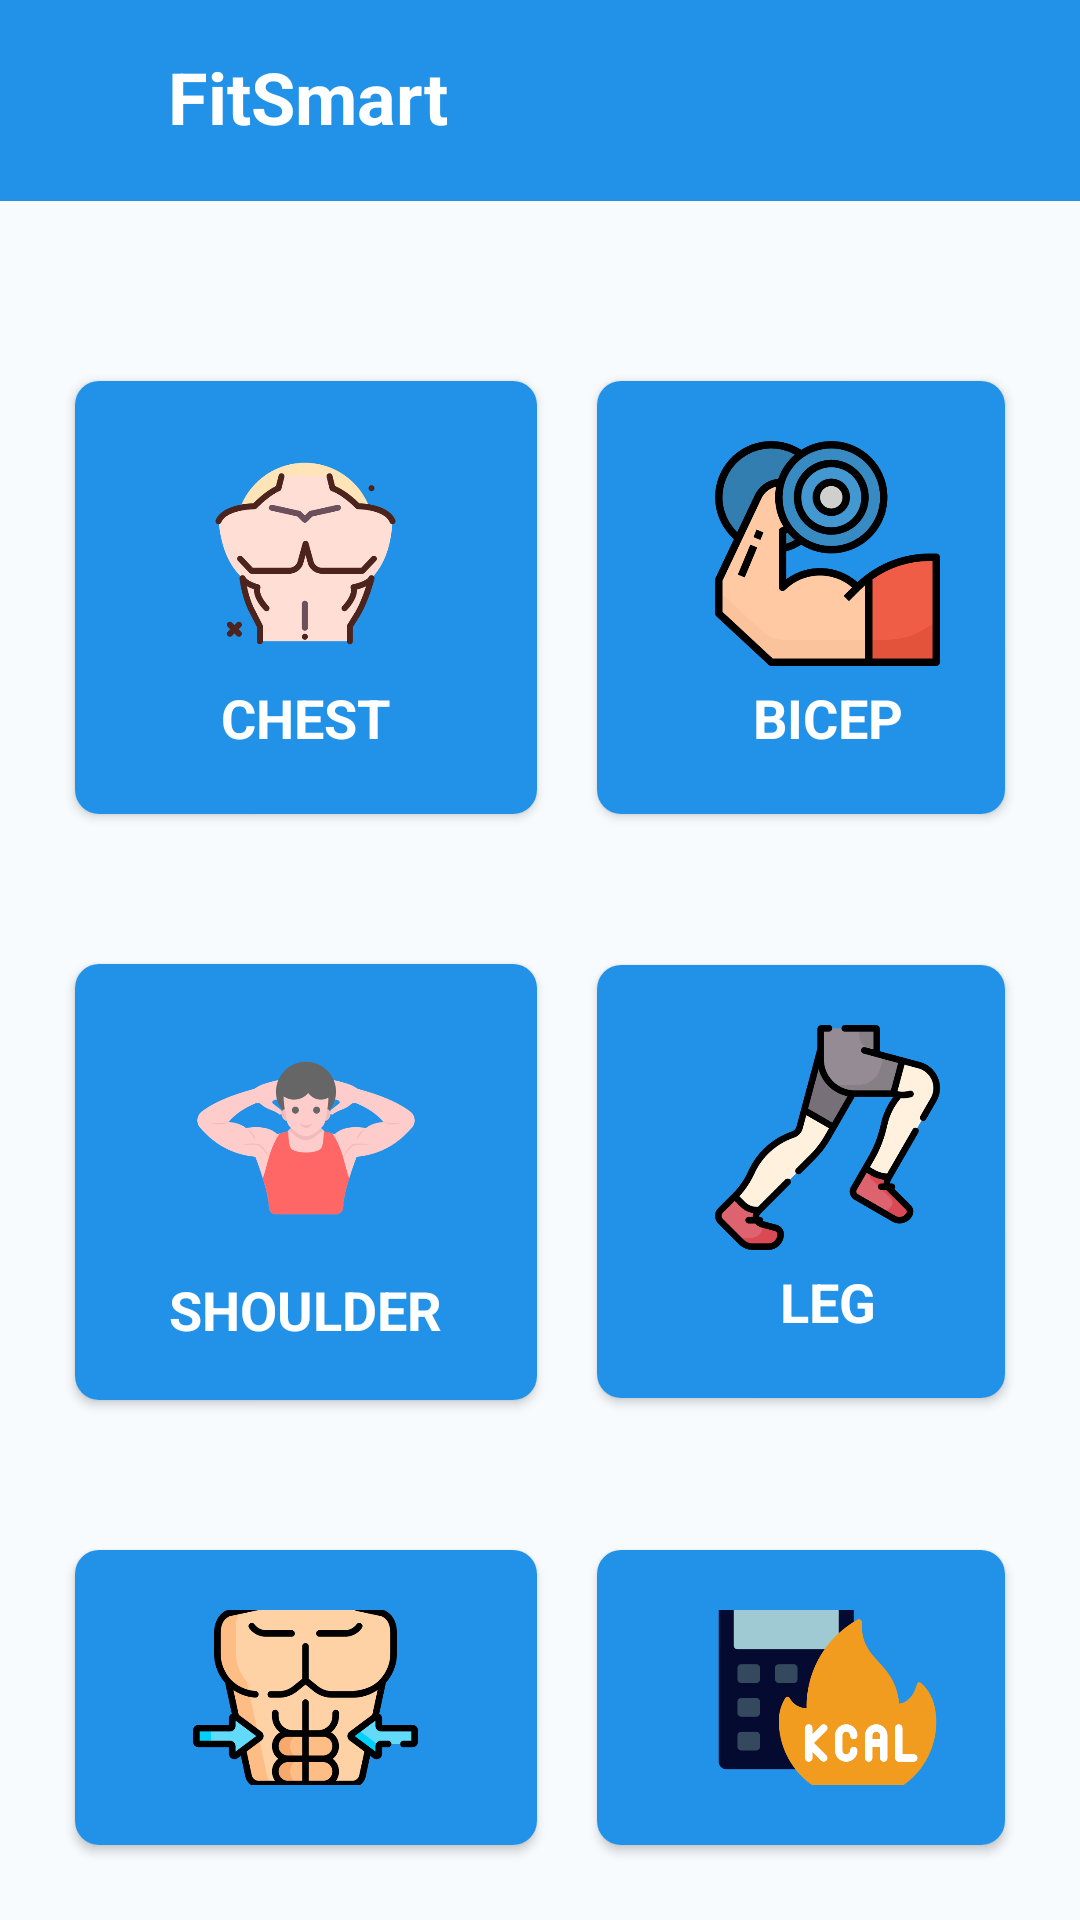

Where icons sit on this 1080px×1920px app screen, as bbox=[x1, y1, x2, y2]:
abs: bbox=[193, 1610, 418, 1785]
calculator: bbox=[718, 1610, 937, 1785]
